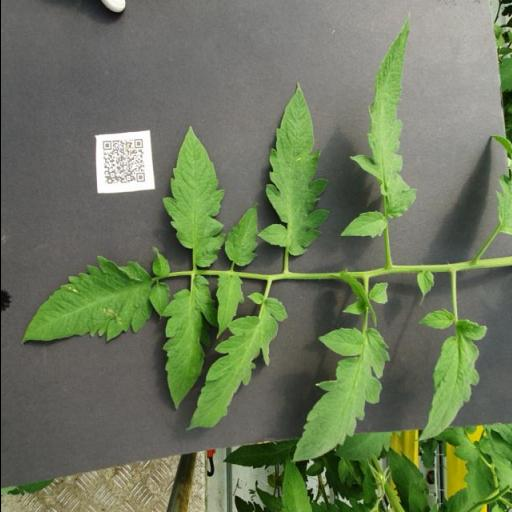Healthy: (339, 13, 418, 239), (184, 292, 286, 430), (290, 328, 390, 464), (256, 82, 330, 256), (410, 308, 486, 443), (161, 125, 224, 267), (160, 275, 218, 409), (224, 202, 258, 268), (215, 274, 245, 340)
